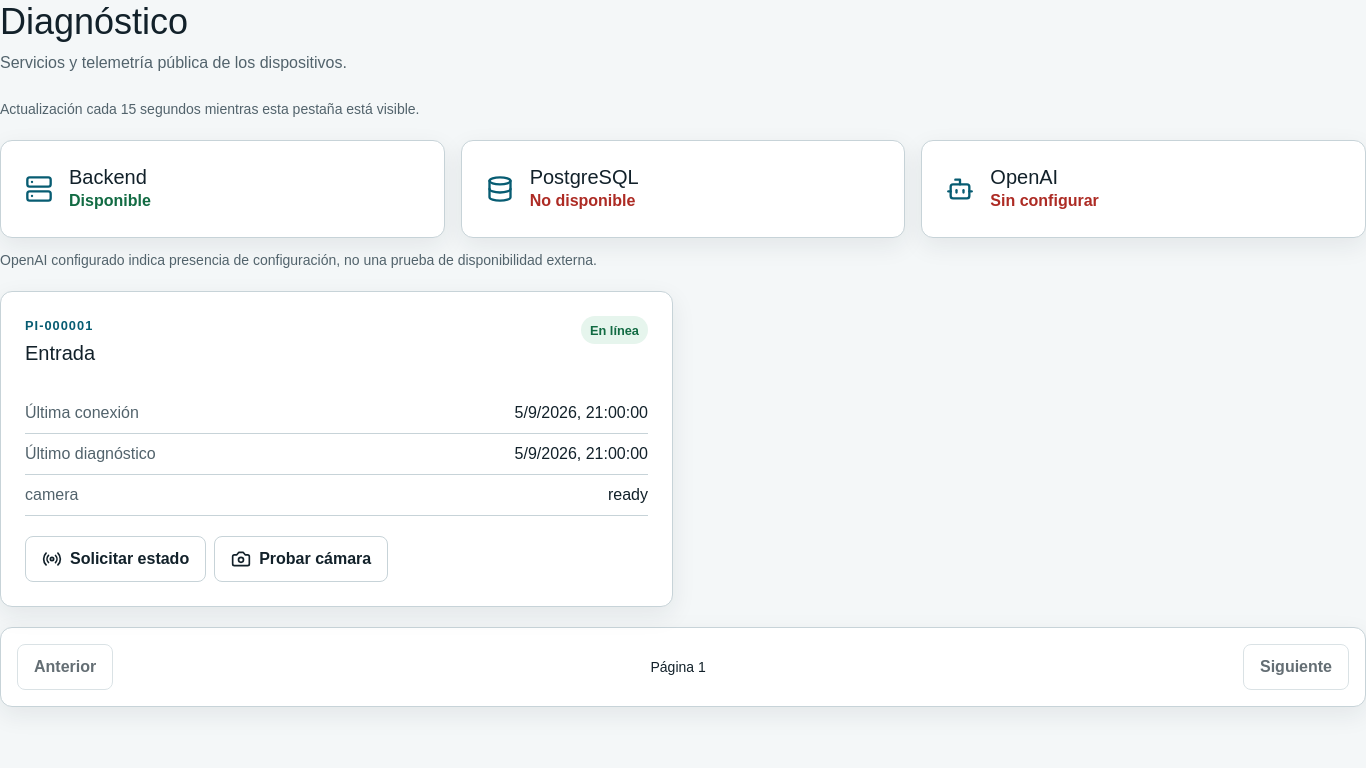
Test case: announces camera diagnostic errors inside the open confirmation and allows retry
Expected: the heading "Entrada" is shown, [25, 342, 95, 364]
Step 1. Click the button with aria-label "Probar cámara de Entrada" → click(301, 559), box [214, 536, 388, 582]
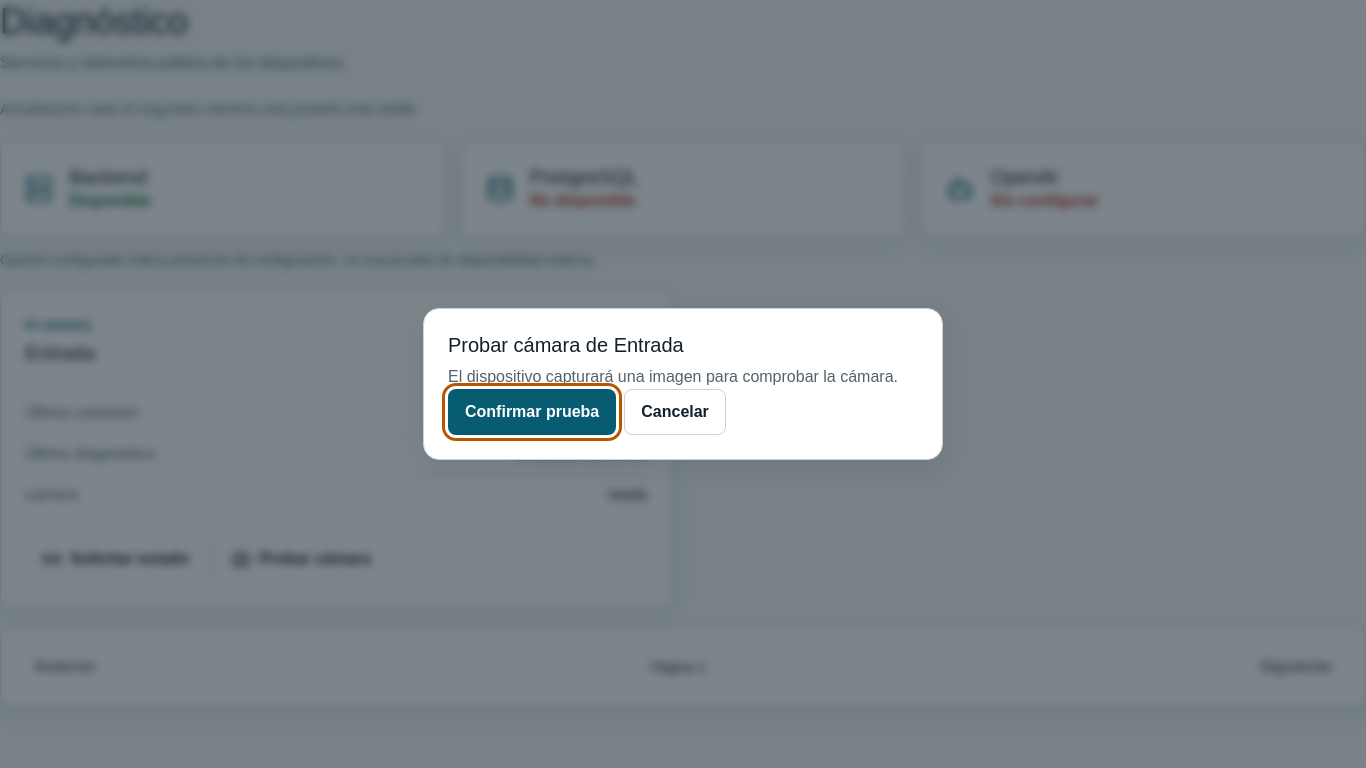
Step 2. Click the button "Confirmar prueba" → click(532, 412), box [448, 389, 616, 435]
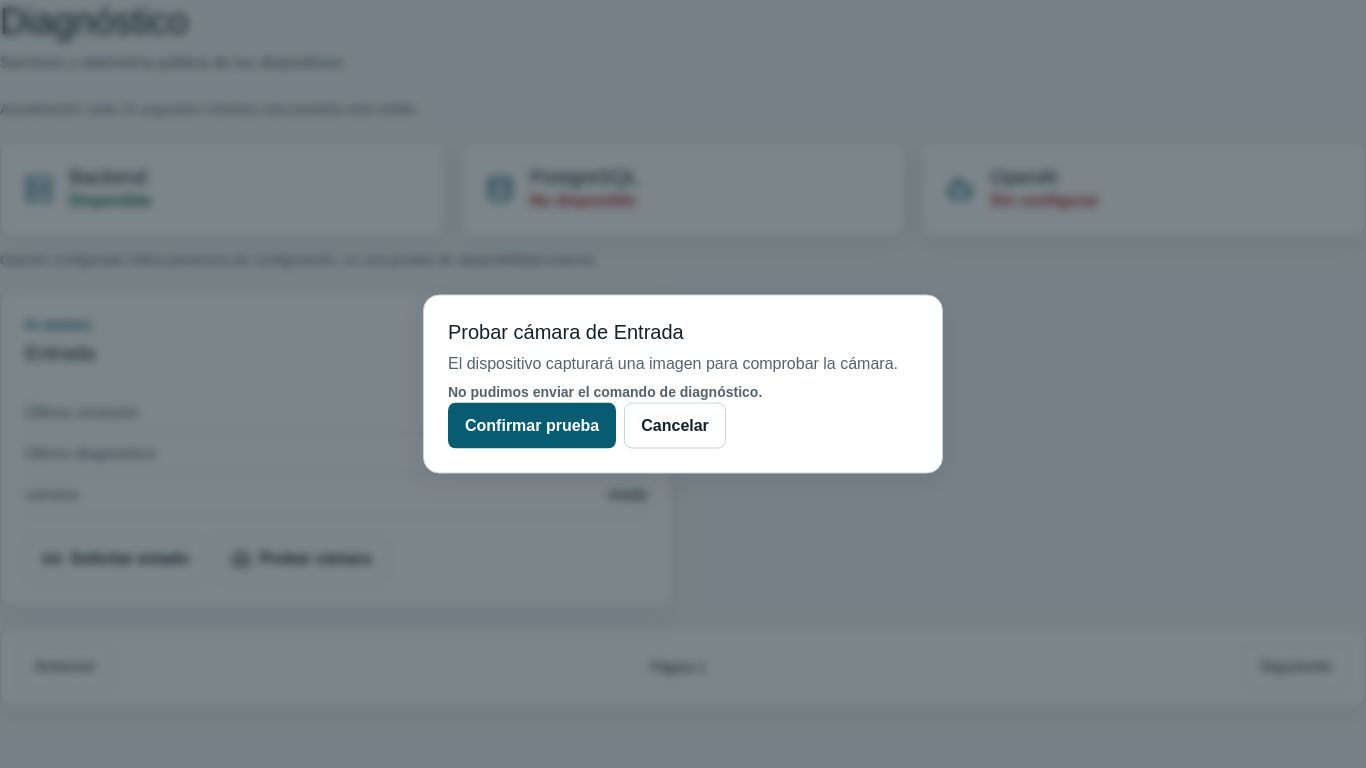
Expected: the button "Cancelar" is enabled, [624, 402, 726, 448]
Expected: the message shows "No pudimos enviar el comando", [448, 384, 762, 400]
Step 3. Click the button "Confirmar prueba" → click(532, 426), box [448, 402, 616, 448]
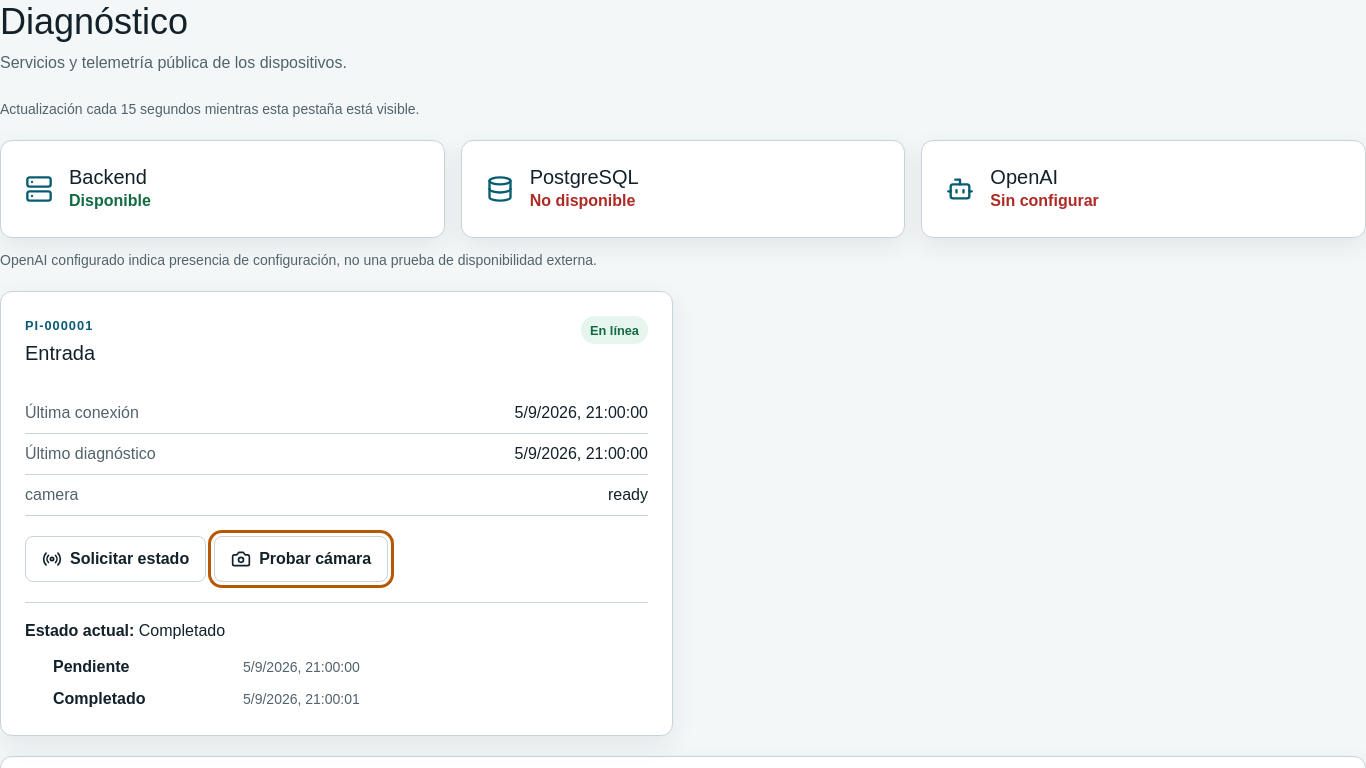
Expected: the heading "Probar cámara de Entrada" is gone
